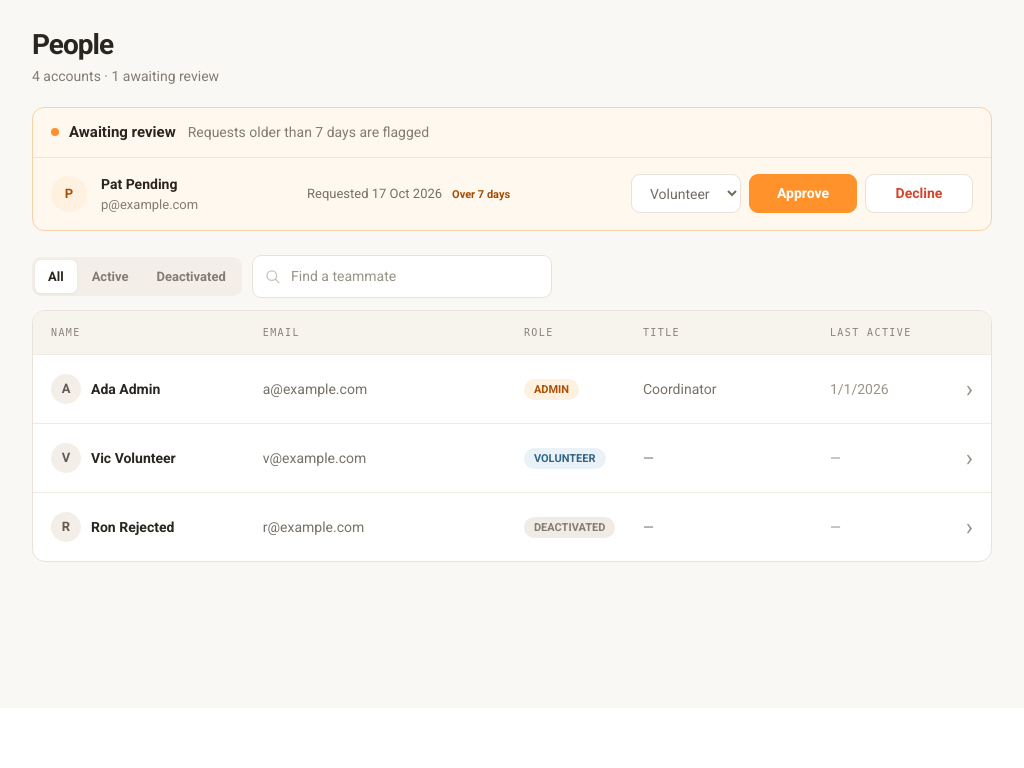
Test: reports review failure ECONNABORTED and re-enables controls
Click the button "Approve" at {"x": 803, "y": 194}, box [749, 174, 857, 213]
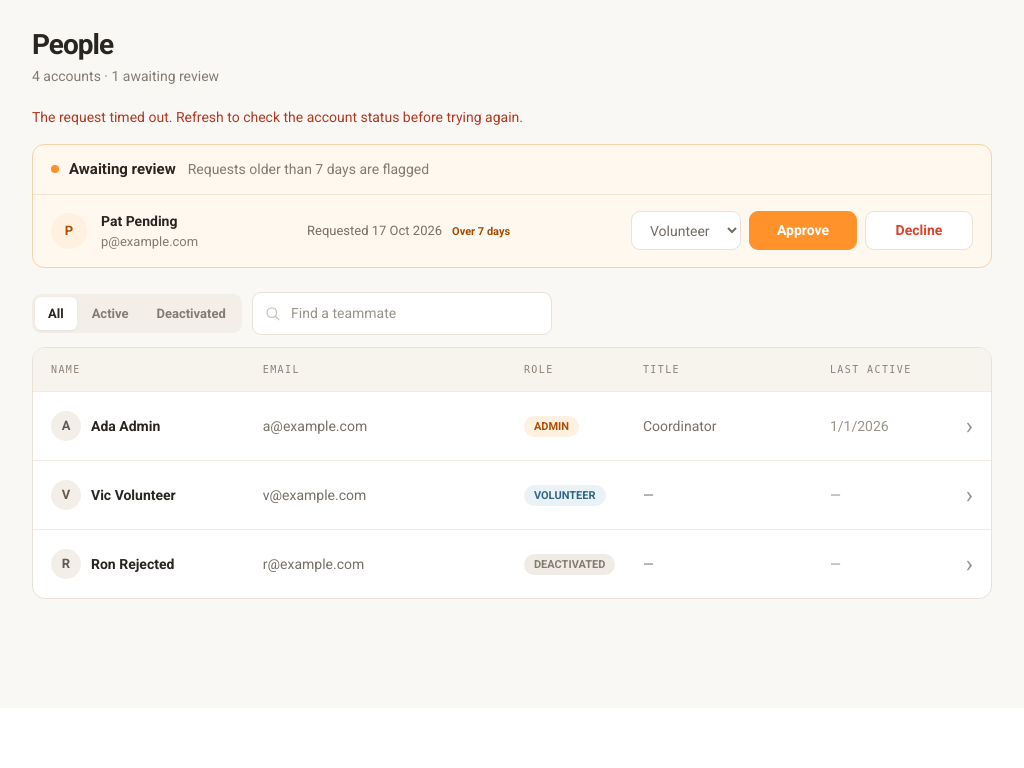
expect the message shows "timed out": met, box [32, 109, 523, 125]
Click the button "Approve" at {"x": 803, "y": 231}, box [749, 211, 857, 250]
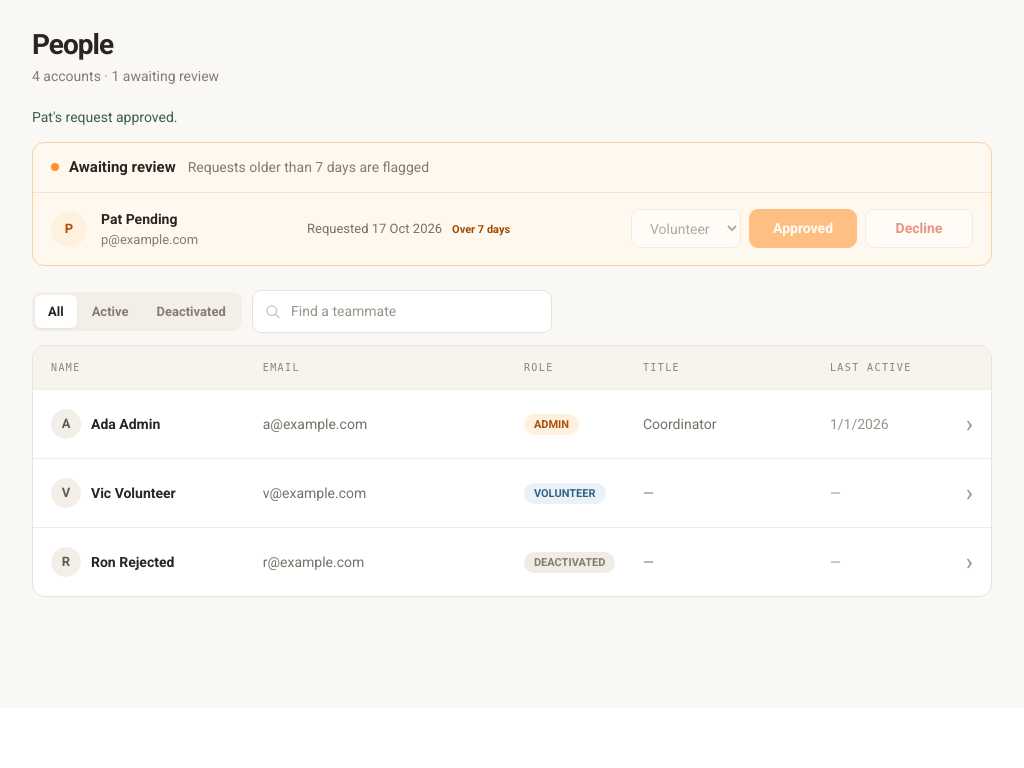
expect the message "The request timed out. Refresh to check the account status before trying again." is gone: met
